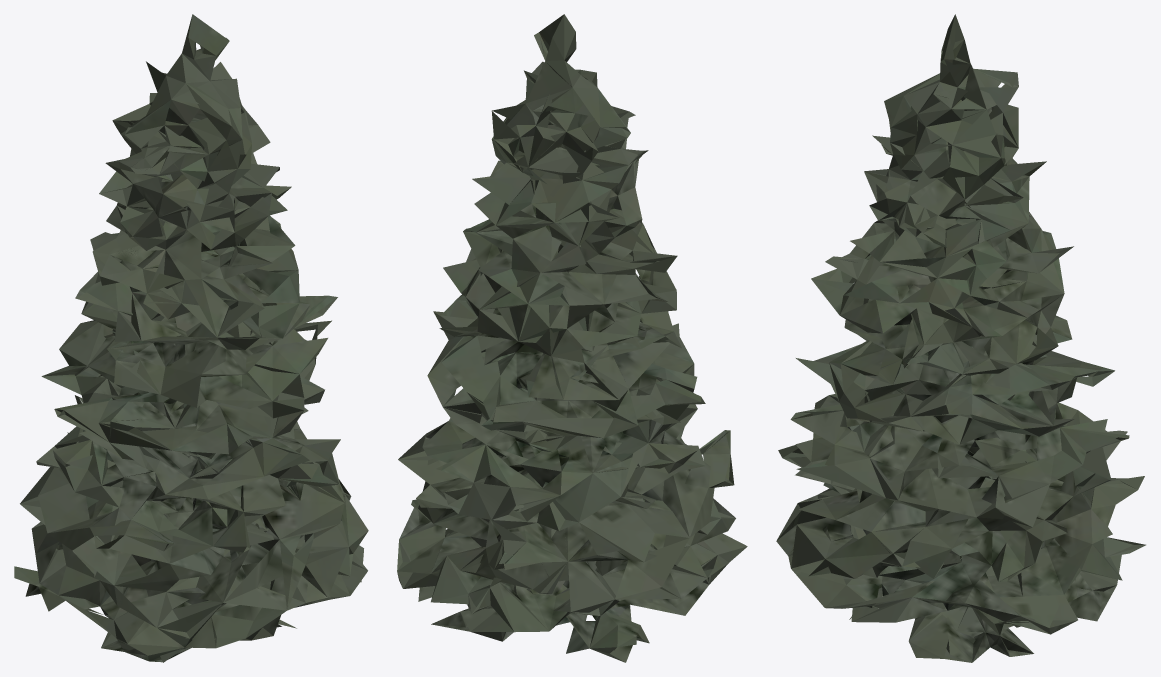
The model's file is conifer.glb.
3 views of the same model, side by side, from view 1: azimuth 30°, elevation 25°; view 2: azimuth 150°, elevation 25°; view 3: azimuth 270°, elevation 25° (orthographic).
Parts seen in each view (by area): view 1: conifer; view 2: conifer; view 3: conifer.
Boxes of the visible parts, x1,y1,x2,y2 form: conifer: [14, 14, 368, 662]; conifer: [397, 14, 747, 662]; conifer: [776, 14, 1145, 662].
Size of the model in its own units: 4.56 by 9 by 4.93.
1 material, 1 textured.
